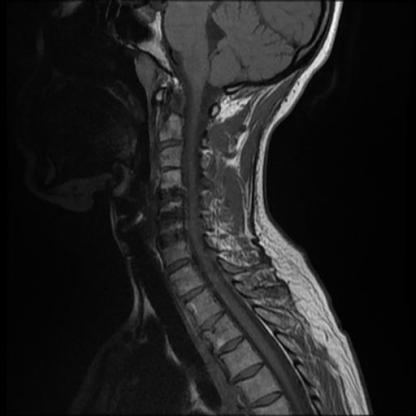Disc Protrusionrotation: (156, 211, 183, 232), (157, 186, 187, 200), (159, 165, 183, 174)
Osteophytesrotation: (156, 211, 183, 232), (157, 186, 187, 200), (159, 165, 183, 174)
